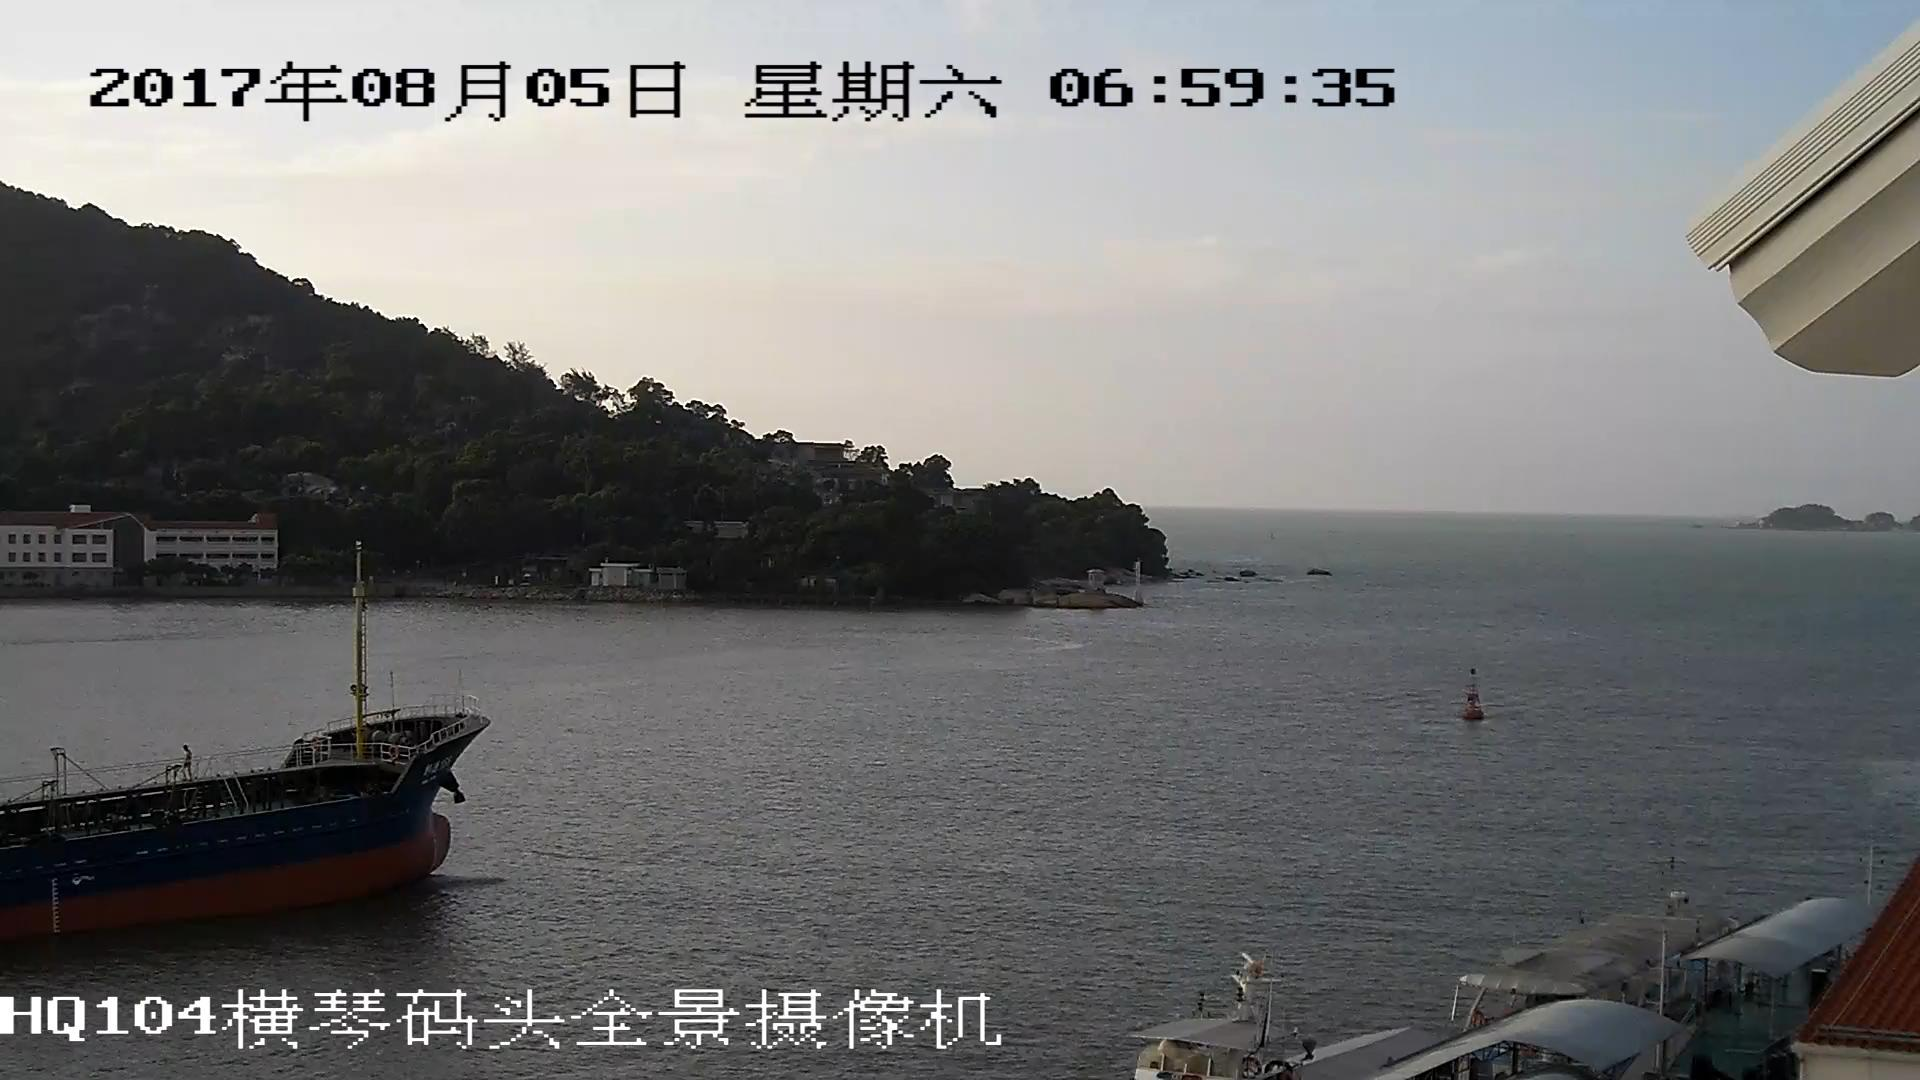Ship: (3, 549, 491, 961)
